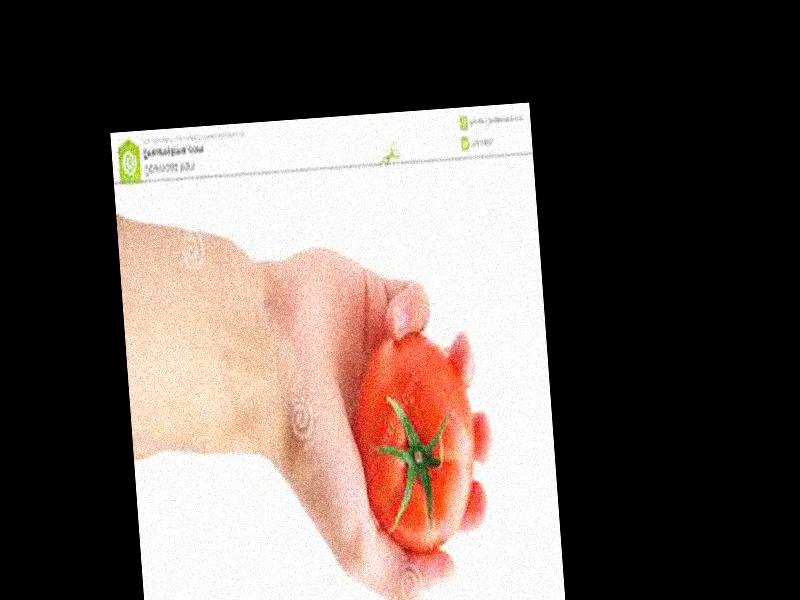Tomato: (350, 327, 481, 553)
